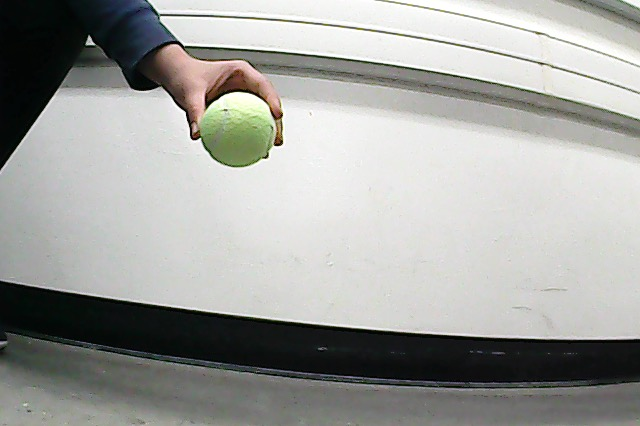ball: (198, 91, 280, 172)
